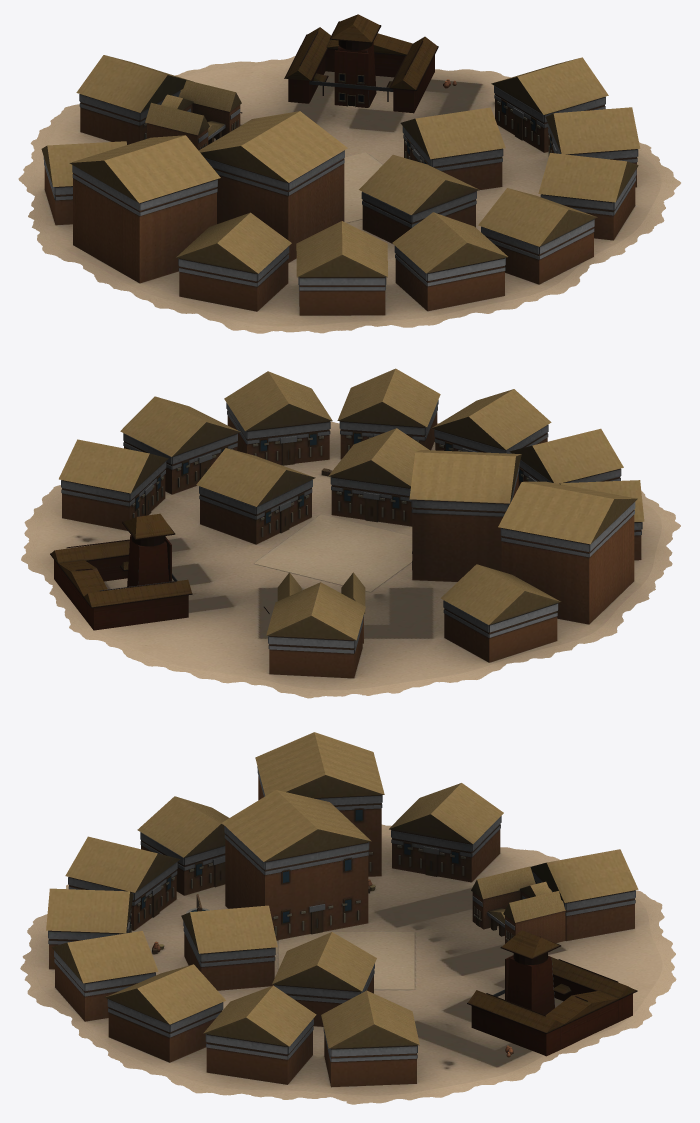
File: kingdoms-town-medium-a-westafrica-bbbbd183.glb
3 views of the same model, one above another, from view 1: azimuth 30°, elevation 25°; view 2: azimuth 150°, elevation 25°; view 3: azimuth 270°, elevation 25° (orthographic).
Parts seen in each view (by area): view 1: LOD0; view 2: LOD0; view 3: LOD0.
Part boxes in pixels (x1=…): LOD0: x1=18, y1=14, x2=680, y2=333; LOD0: x1=21, y1=368, x2=680, y2=698; LOD0: x1=20, y1=732, x2=676, y2=1104.
Size of what is drawn, in the model's own units: 5.96 by 1.05 by 5.93.
3 materials, 3 textured.
